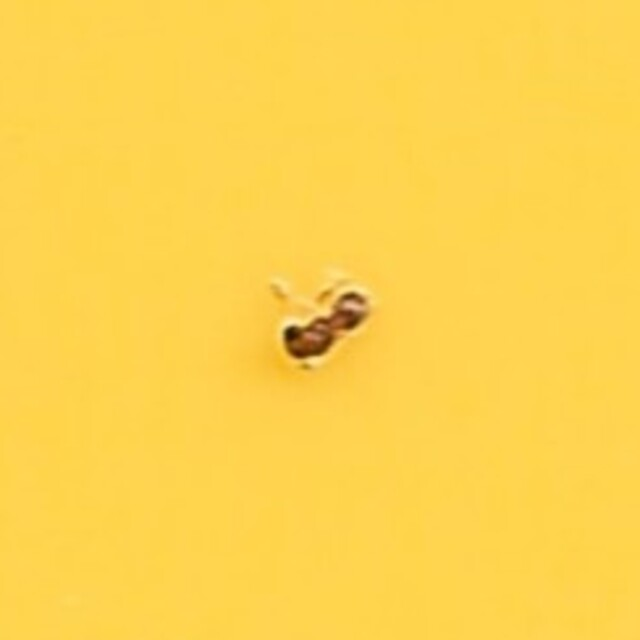Hymenoptera: (262, 268, 378, 372)
